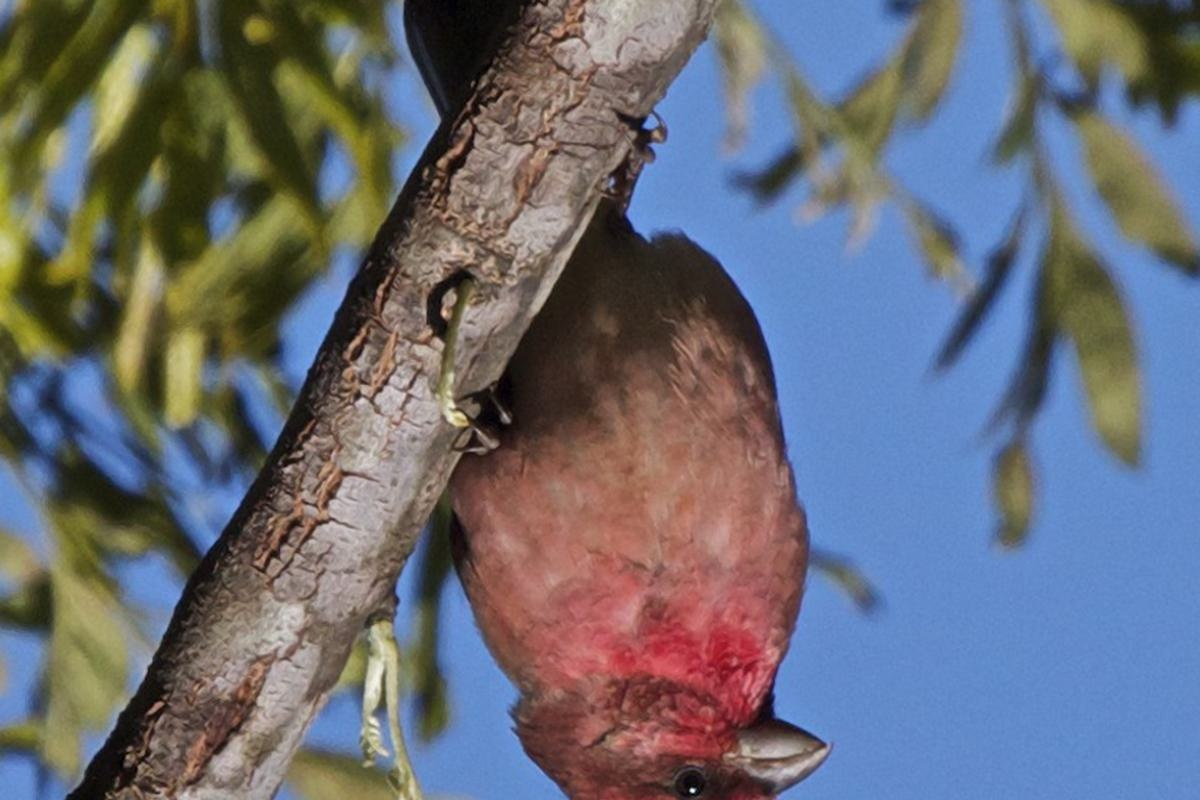rosefinch: (469, 116, 836, 800)
